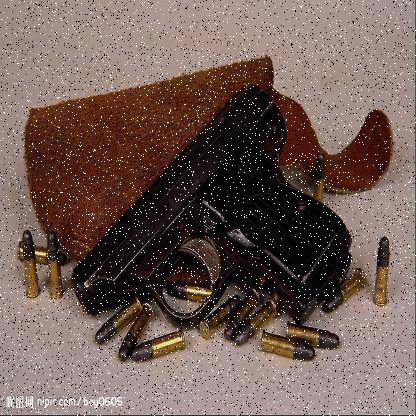pistol: (73, 82, 353, 331)
